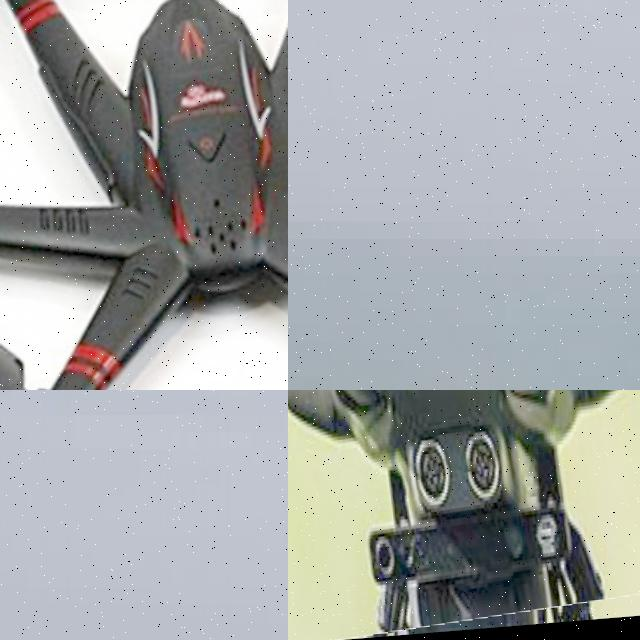drone: (0, 0, 288, 390), (288, 390, 640, 640)
